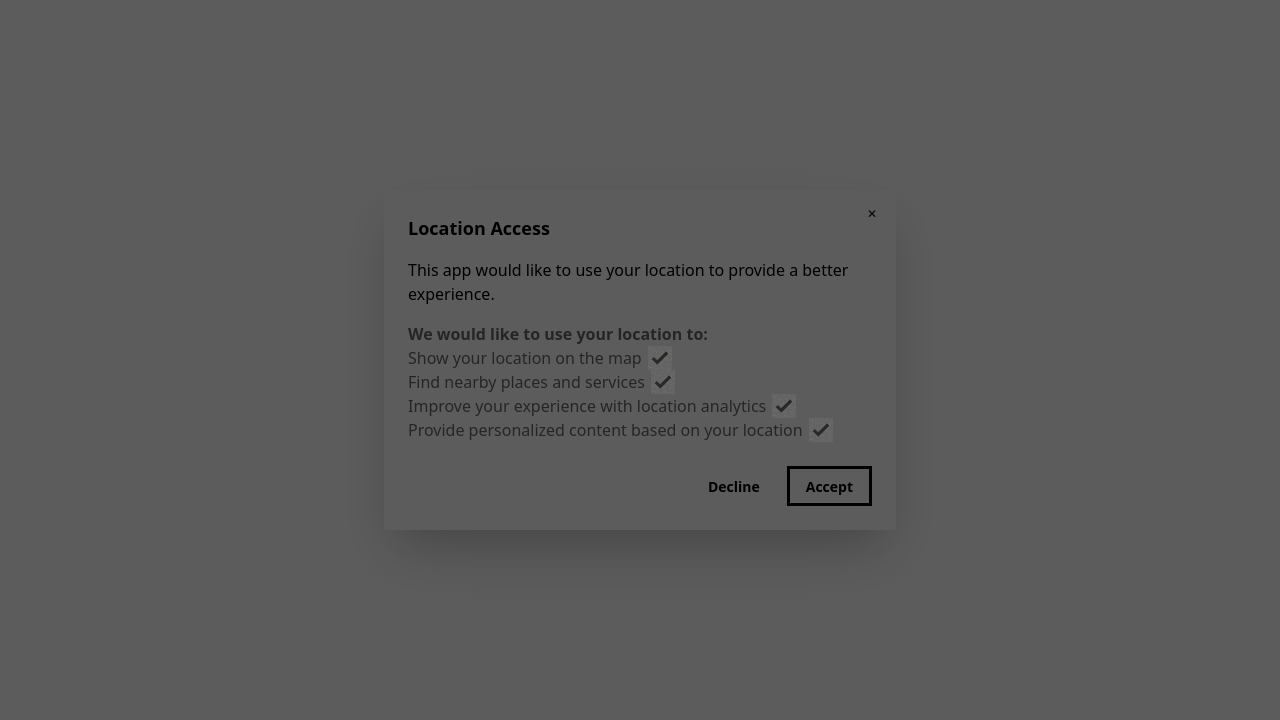
it: GeolocationConsent › should disable accept button when no purposes selected
Click the checkbox labelled "Show your location on the map".
click(660, 358)  # box 648,346 -> 672,370
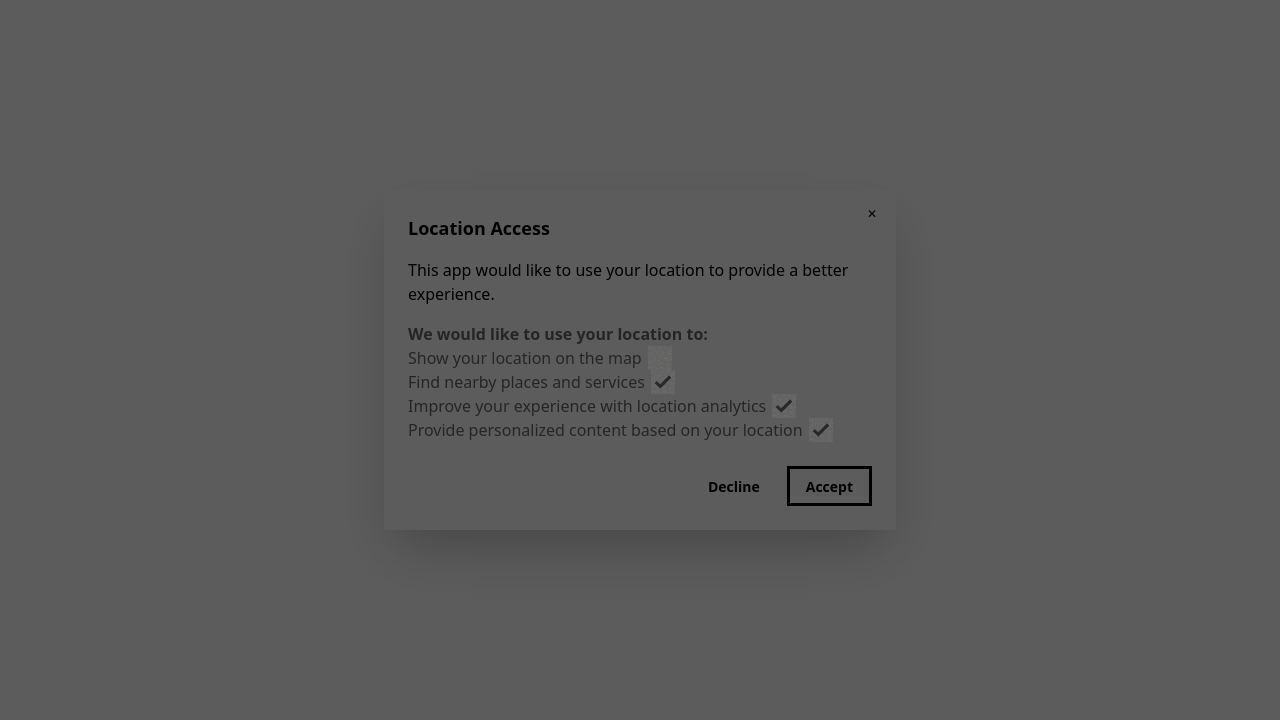
Click the checkbox labelled "Find nearby places and services".
click(663, 382)  # box 651,370 -> 675,394
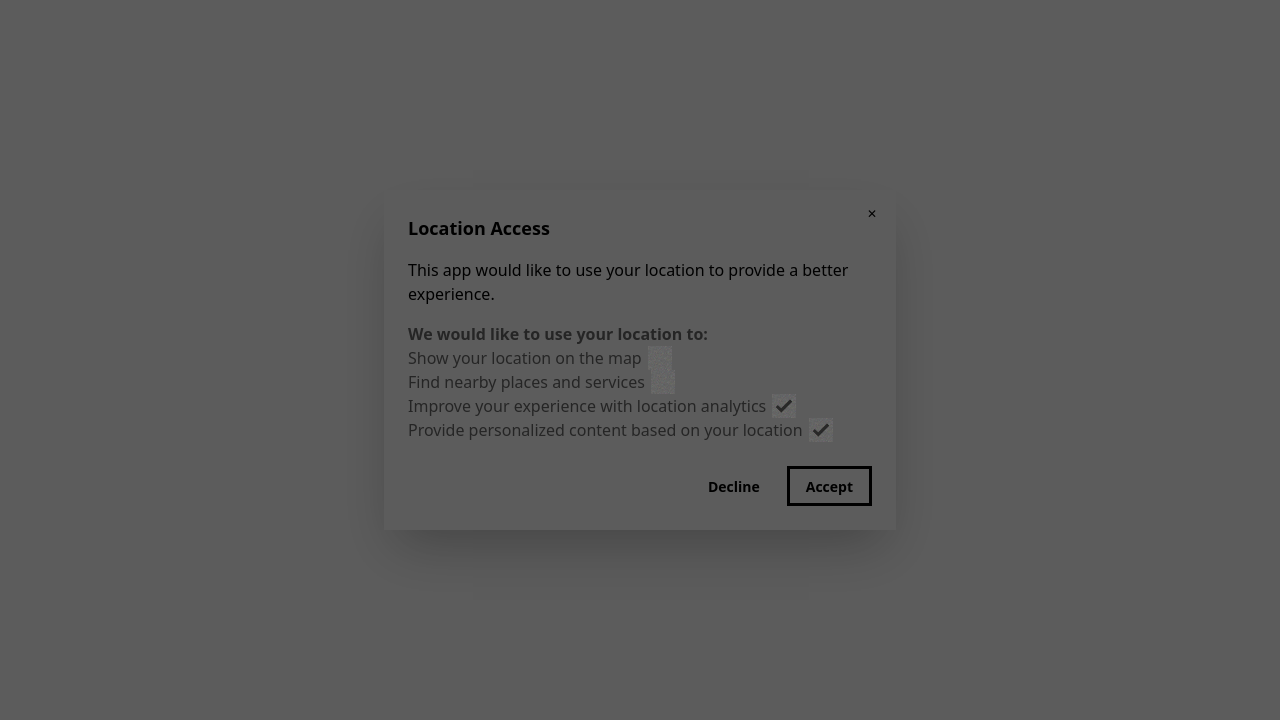
Click the checkbox labelled "Improve your experience with location analytics".
click(784, 406)  # box 772,394 -> 796,418
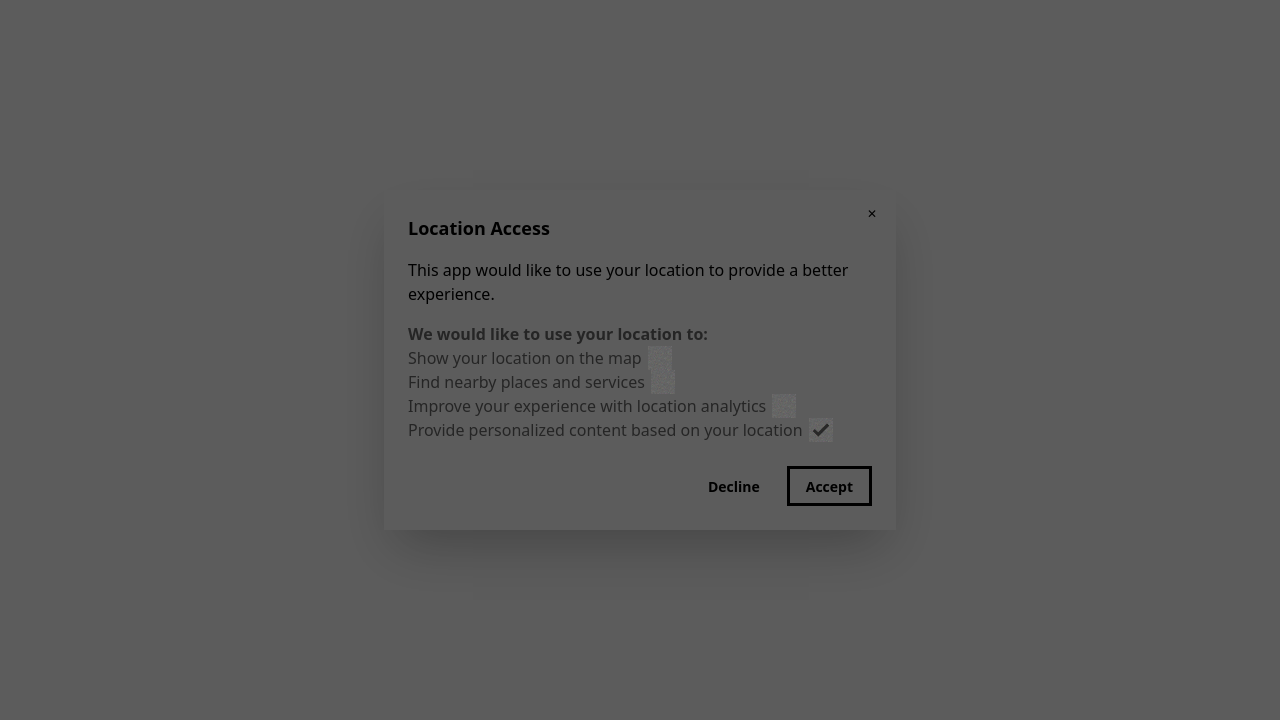
Click the checkbox labelled "Provide personalized content based on your location".
click(821, 430)  # box 809,418 -> 833,442
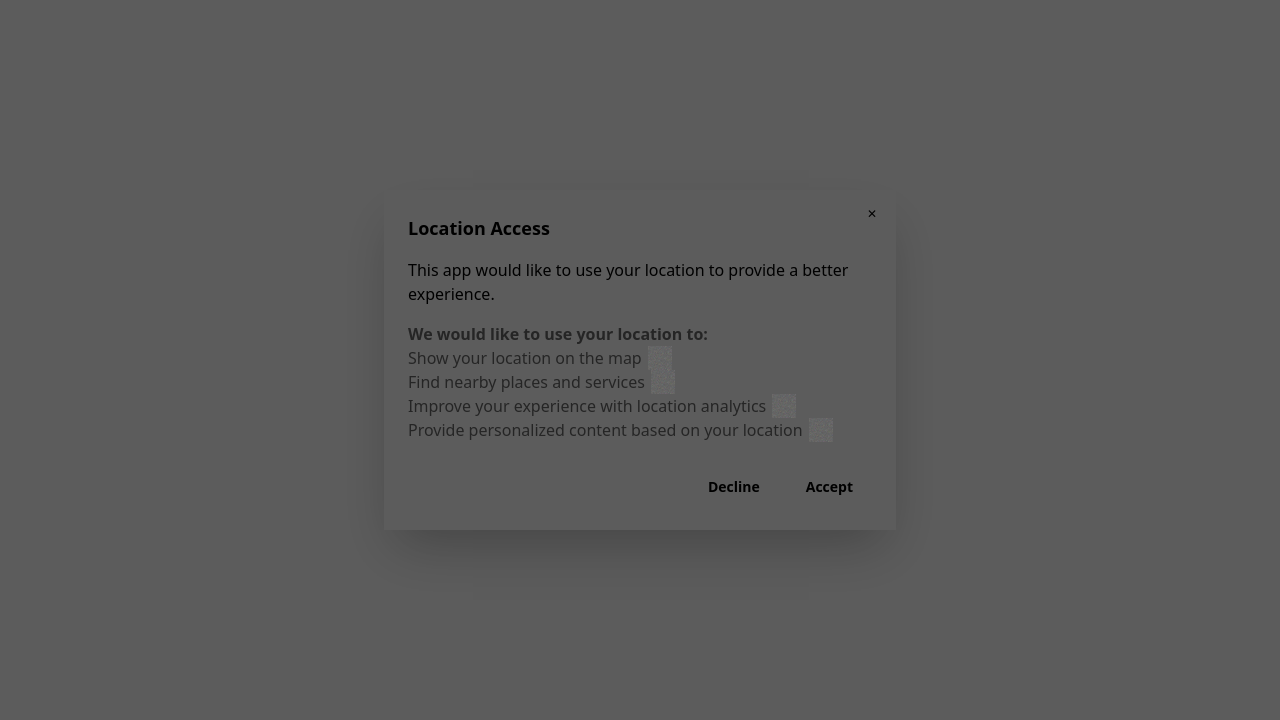
Now the button "Accept" is disabled, box 787,466 -> 872,506
